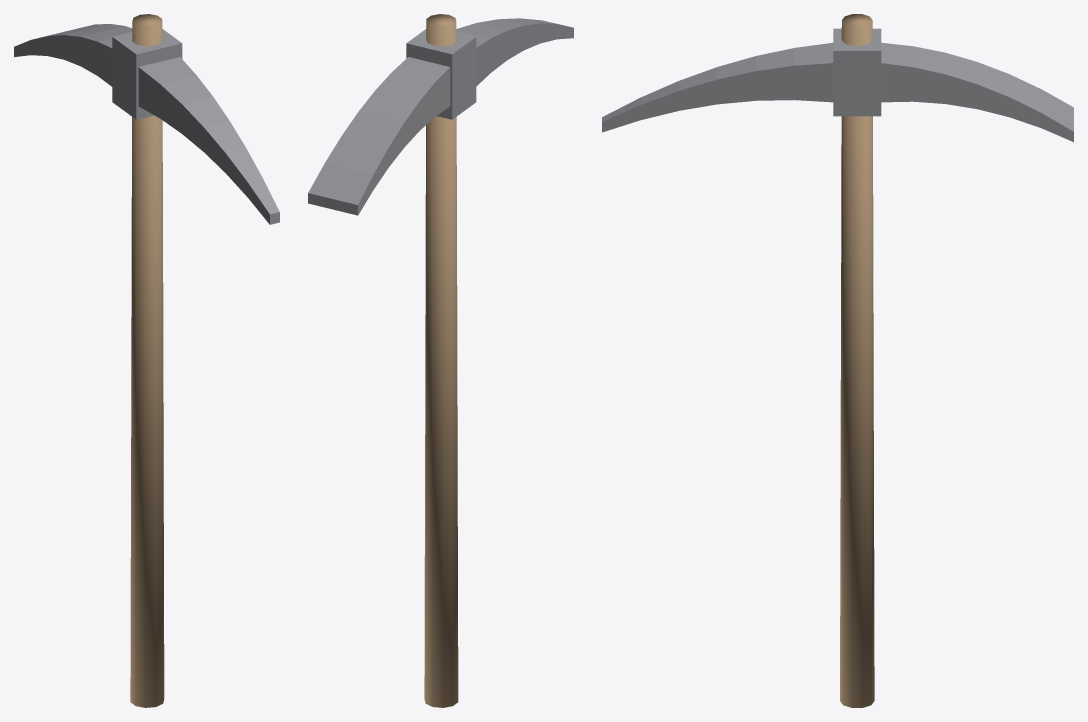
File: pickaxe.glb
3 views of the same model, side by side, from view 1: azimuth 30°, elevation 25°; view 2: azimuth 150°, elevation 25°; view 3: azimuth 270°, elevation 25° (orthographic).
Parts seen in each view (by area): view 1: Arm; view 2: Arm; view 3: Arm.
Part boxes in pixels (x1=…): Arm: x1=14, y1=14, x2=279, y2=707; Arm: x1=308, y1=14, x2=573, y2=707; Arm: x1=602, y1=14, x2=1073, y2=707.
Bounding box in the file's own units: 0.06 × 0.78 × 0.49.
